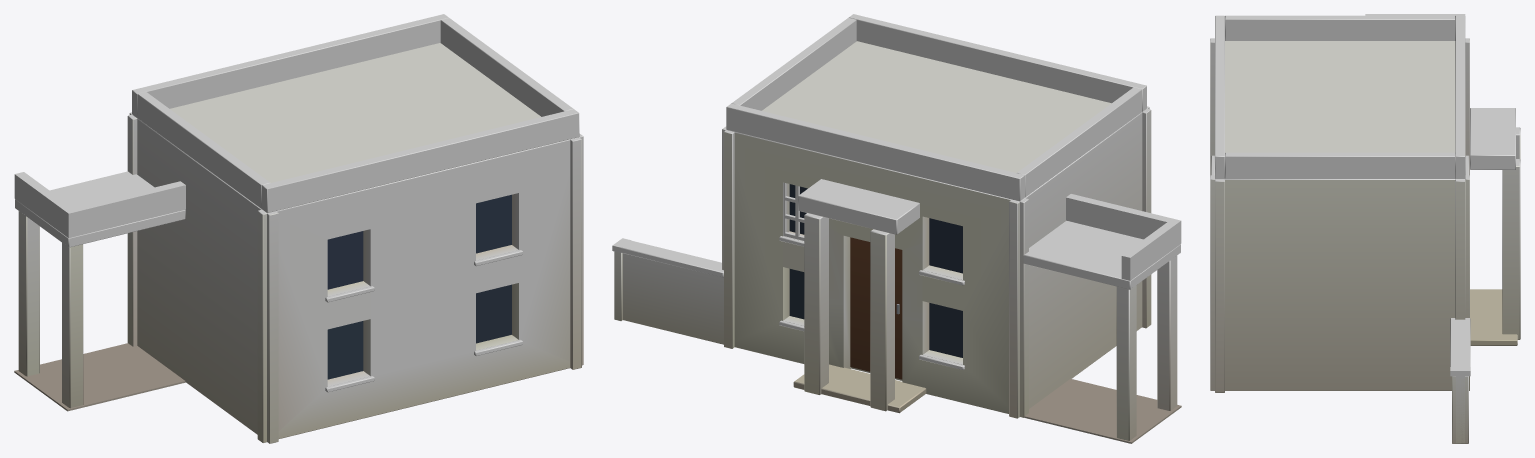
The model's file is uae-villa.glb.
3 renders of one model, left to right at view 1: azimuth 30°, elevation 25°; view 2: azimuth 150°, elevation 25°; view 3: azimuth 270°, elevation 25°, orthographic. The views are drawn at different scales.
Visible parts, largest first — view 1: uae-villa; view 2: uae-villa; view 3: uae-villa.
Part boxes in pixels (box(x1,y1,x2,y2)): uae-villa: box(14, 14, 583, 443); uae-villa: box(612, 14, 1181, 443); uae-villa: box(1210, 14, 1520, 443).
Size of the model in its own units: 7.02 by 3.1 by 3.71.
